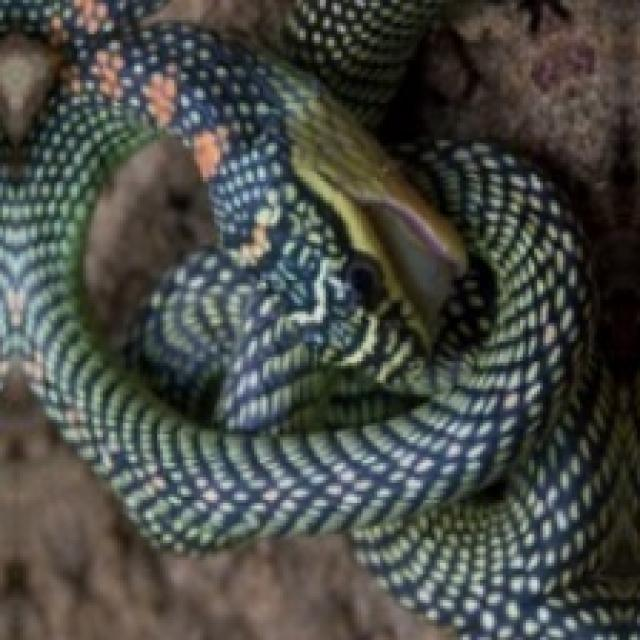paradise tree snake: (0, 0, 637, 637), (80, 131, 217, 354)
